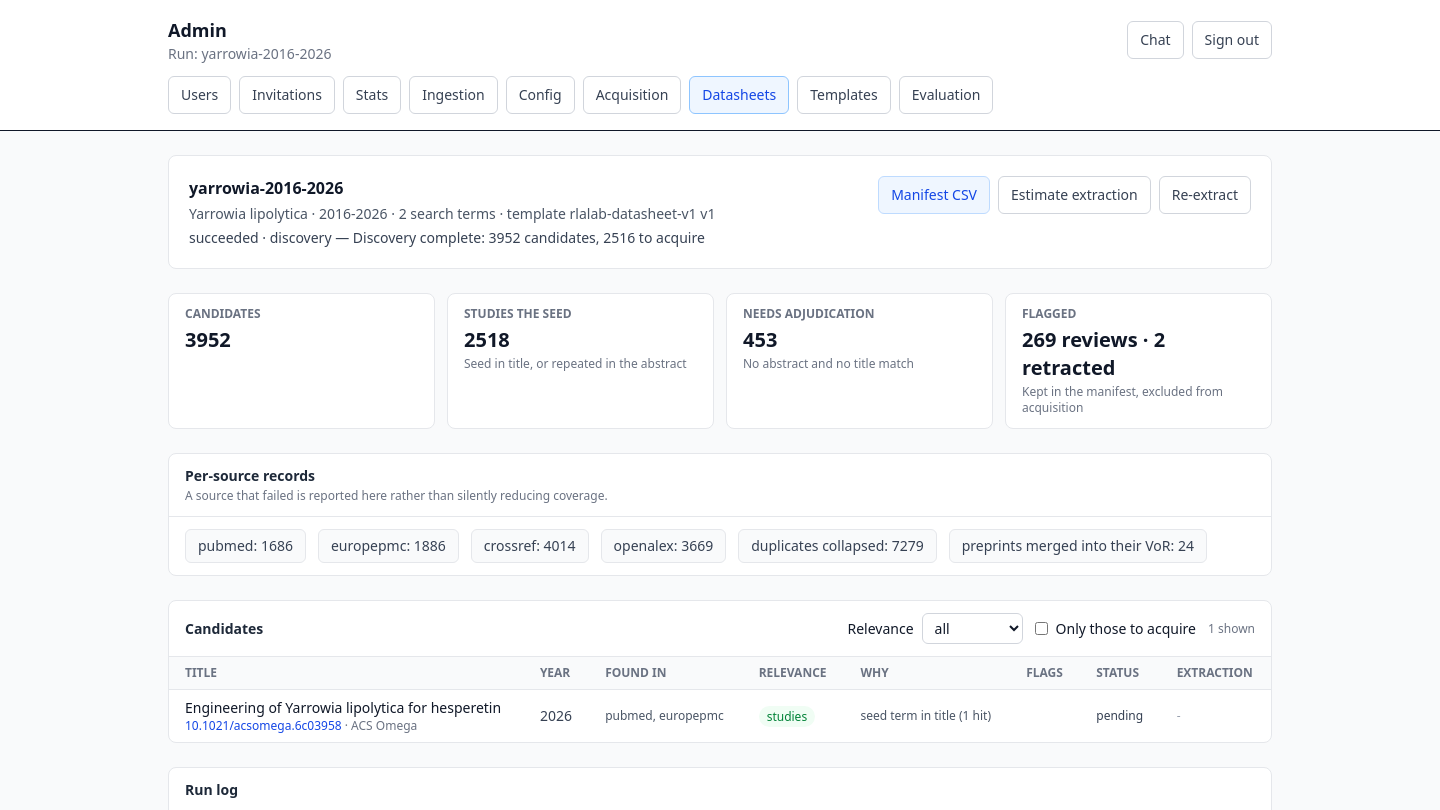
Test: AdminDatasheetRunClient › reports projected extraction cost without sending anything
Click the button "Estimate extraction": (1074, 195) [998, 176, 1151, 214]
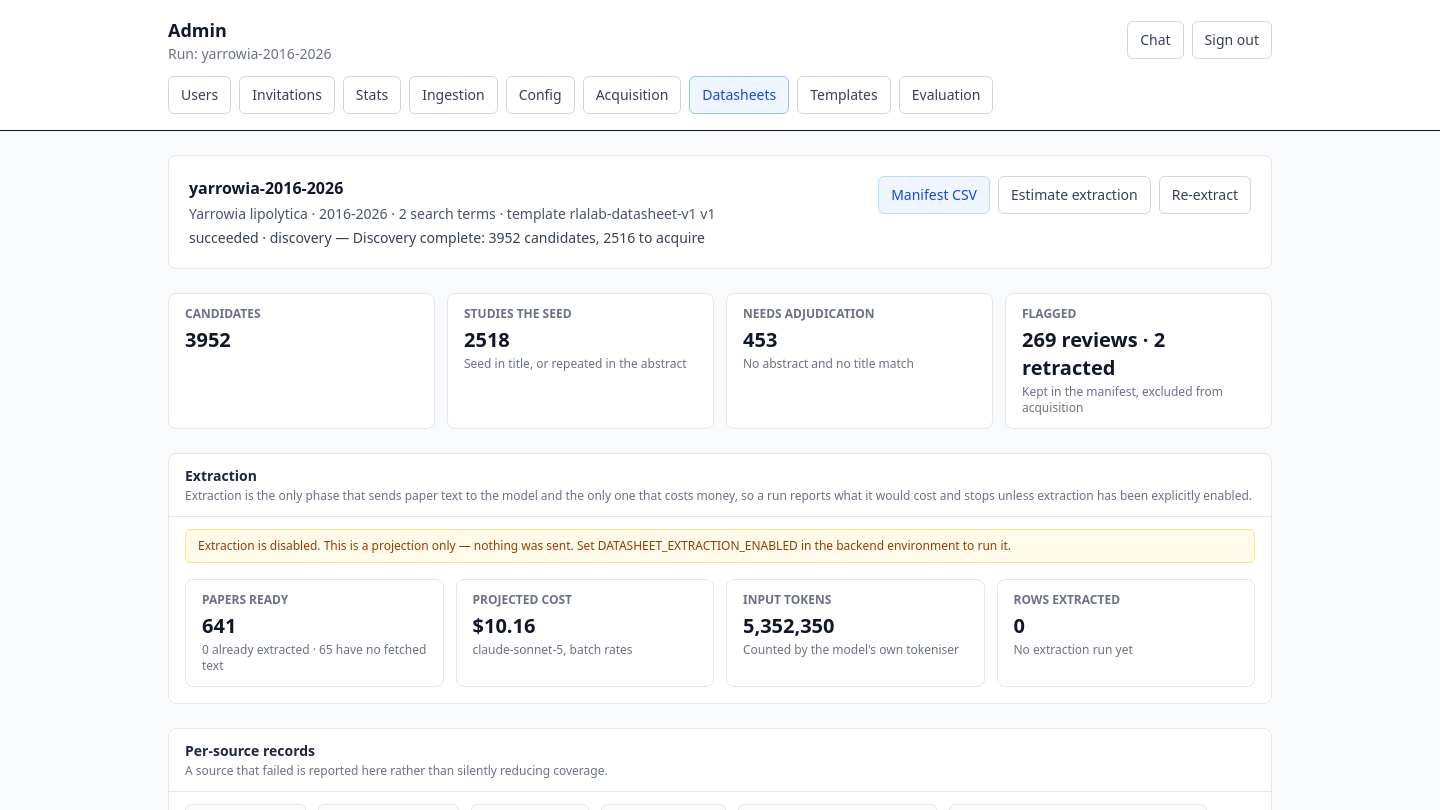
Now the text "$10.16" is shown, box [472, 612, 535, 639]
Now the text "641" is shown, box [202, 612, 236, 639]
Now the text "0 already extracted · 65 have no fetched text" is shown, box [202, 642, 426, 674]
